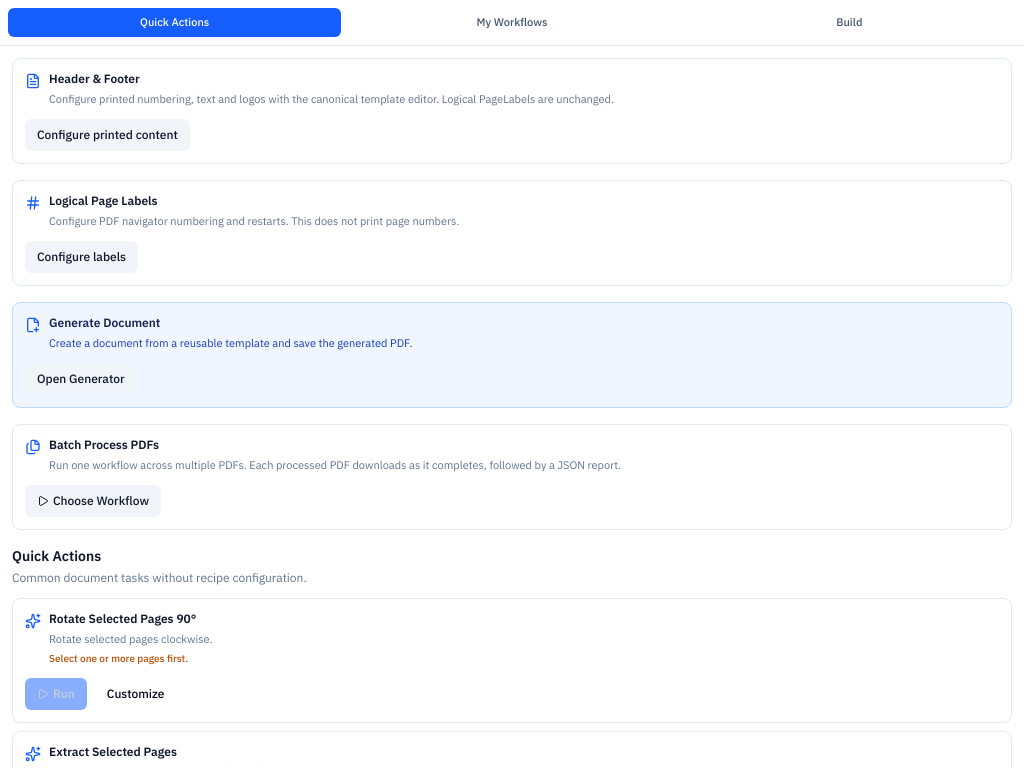
Test: AutomateSidebar › opens the professional Header & Footer editor from Automate without a macro recipe
Click the button "Configure printed content" at x=107, y=134, box [25,118,190,150]
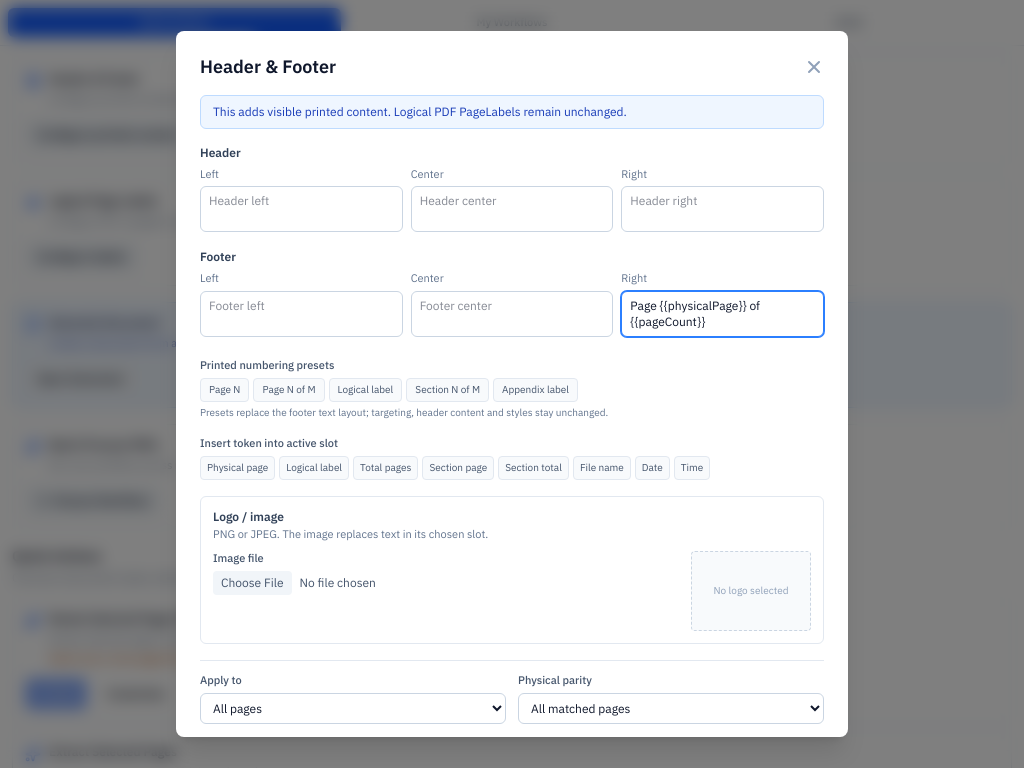
Expected: the dialog "Header & Footer" is shown
